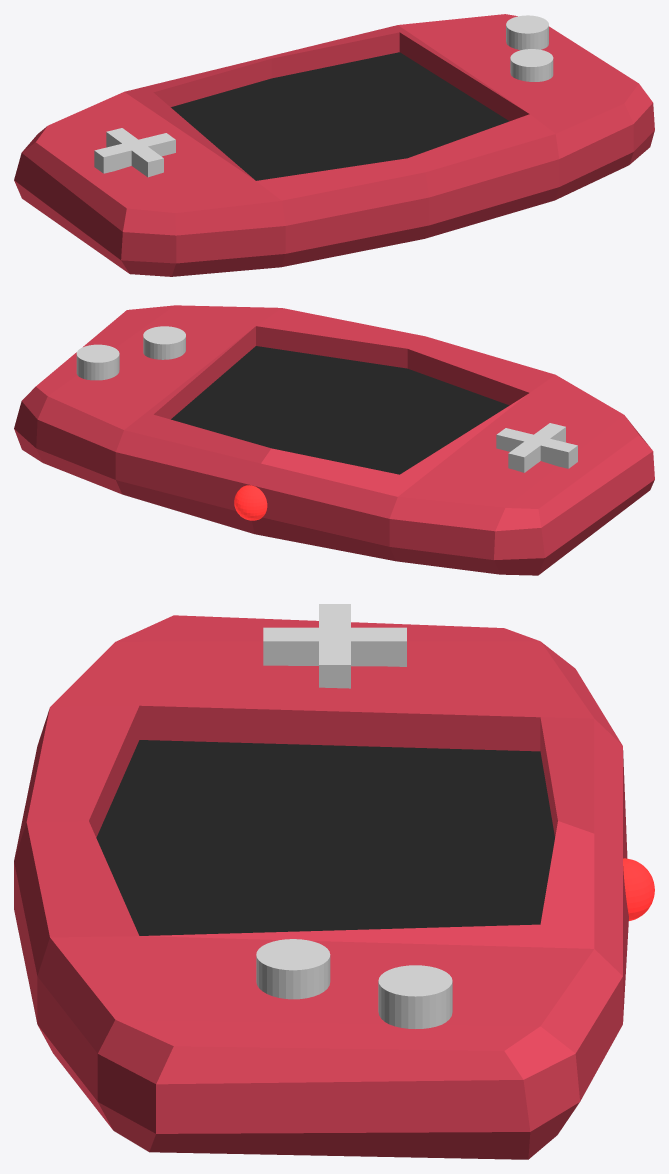
File: nintendo.fbx
The picture shows the model from 3 angles, top to bottom: view 1: azimuth 30°, elevation 25°; view 2: azimuth 150°, elevation 25°; view 3: azimuth 270°, elevation 25°; orthographic projection. The views are drawn at different scales.
Parts seen in each view (by area): view 1: Cube, Cube.002, Cylinder, Cylinder.001, Cube.001; view 2: Cube, Cube.002, Cylinder, Cylinder.001, Cube.001, Sphere; view 3: Cube, Cube.001, Cylinder, Cylinder.001, Cube.002, Sphere.
Part boxes in pixels (x1=…): Cube: x1=14, y1=14, x2=654, y2=276; Cube.002: x1=94, y1=133, x2=175, y2=173; Cylinder: x1=506, y1=15, x2=548, y2=50; Cylinder.001: x1=510, y1=49, x2=553, y2=81; Cube.001: x1=106, y1=128, x2=163, y2=177; Cube: x1=14, y1=305, x2=654, y2=575; Cube.002: x1=496, y1=428, x2=577, y2=468; Cylinder: x1=76, y1=344, x2=119, y2=380; Cylinder.001: x1=143, y1=326, x2=185, y2=359; Cube.001: x1=508, y1=423, x2=565, y2=472; Sphere: x1=234, y1=485, x2=267, y2=520; Cube: x1=14, y1=615, x2=628, y2=1159; Cube.001: x1=263, y1=627, x2=406, y2=666; Cylinder: x1=378, y1=965, x2=452, y2=1028; Cylinder.001: x1=256, y1=939, x2=330, y2=999; Cube.002: x1=319, y1=604, x2=350, y2=688; Sphere: x1=623, y1=858, x2=654, y2=920.
Size of the model in its own units: 780 by 119 by 470.
